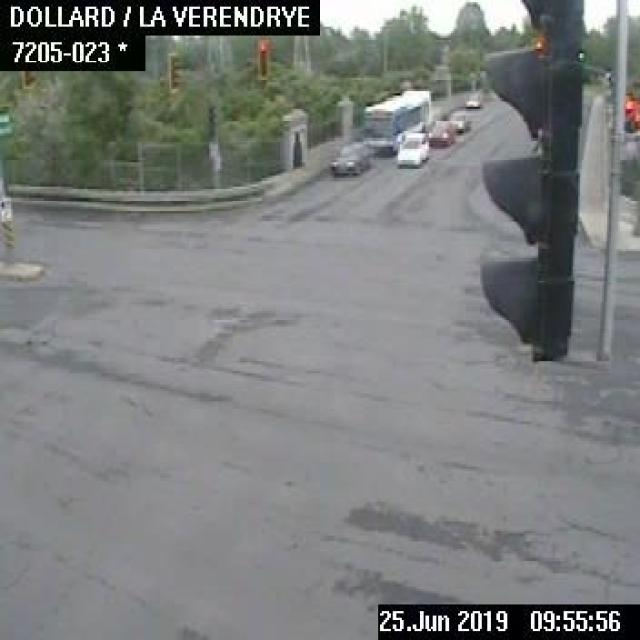bus: (361, 86, 432, 152)
vehicle: (329, 142, 373, 178), (394, 132, 428, 166), (428, 117, 452, 147), (448, 108, 469, 135), (463, 88, 480, 110)
